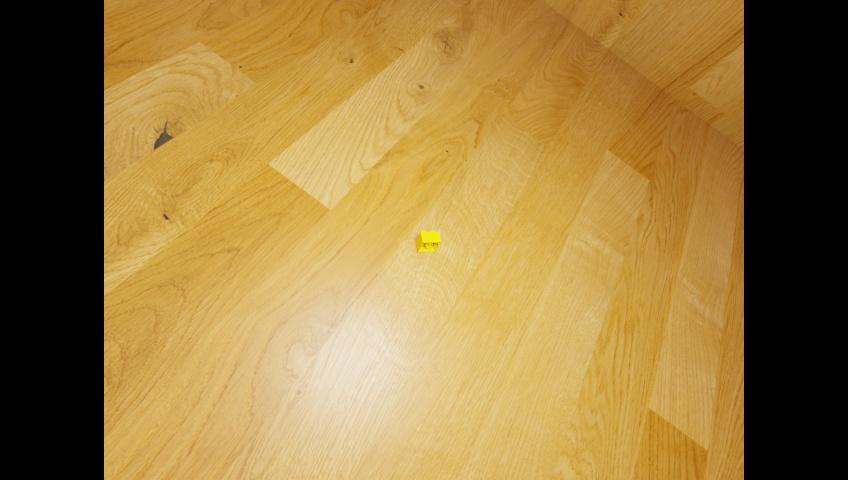2x2_yellow: (415, 230, 440, 251)
